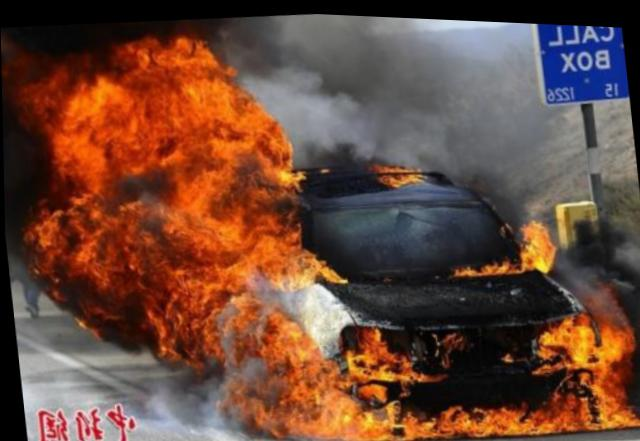fire: (5, 0, 639, 440)
